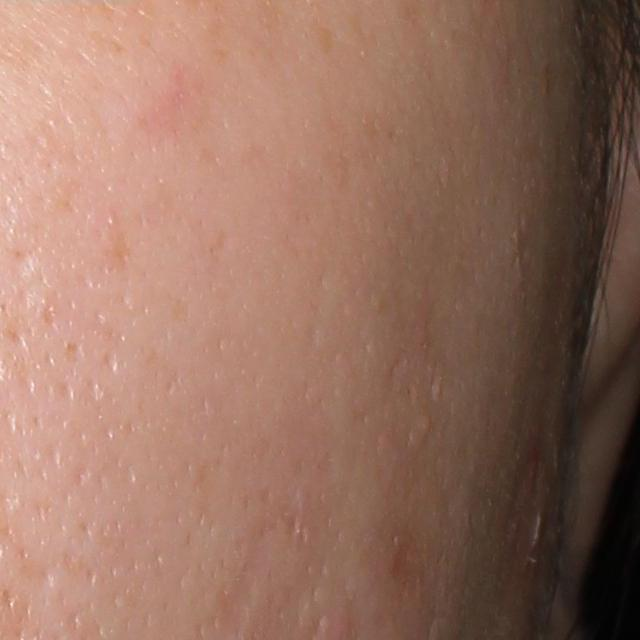comedo: (420, 414, 432, 432)
